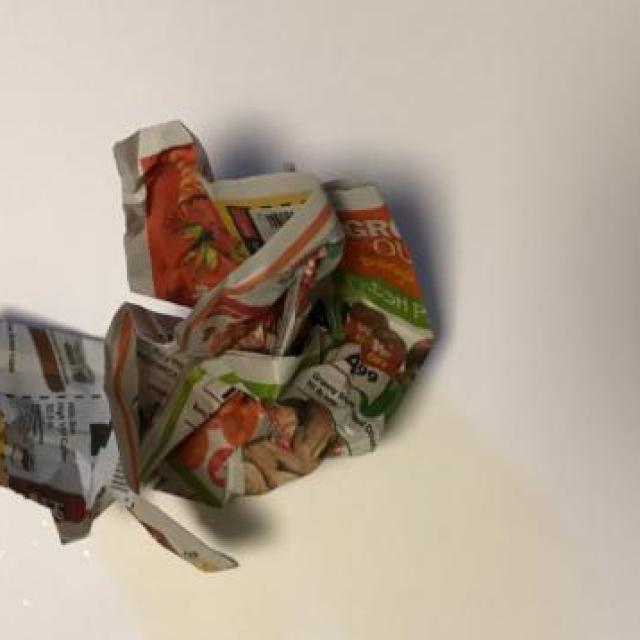organic: (0, 108, 444, 583)
